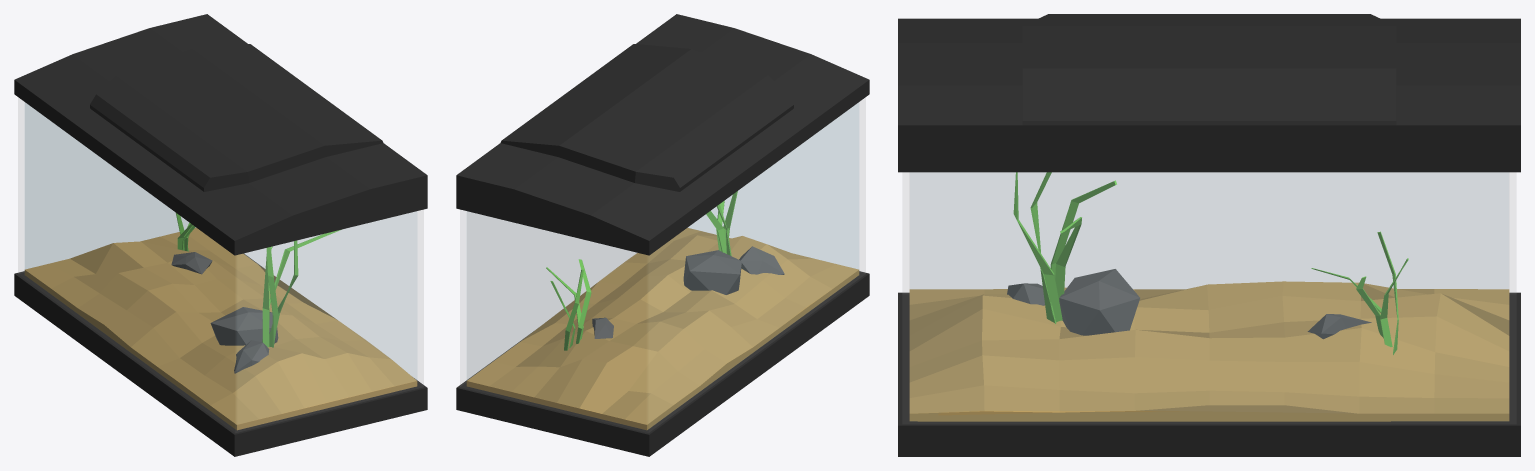
Rendered from tank.glb.
3 views of the same model, side by side, from view 1: azimuth 30°, elevation 25°; view 2: azimuth 150°, elevation 25°; view 3: azimuth 270°, elevation 25° (orthographic). The views are drawn at different scales.
Parts seen in each view (by area): view 1: Fish_Tank_Cube.003; view 2: Fish_Tank_Cube.003; view 3: Fish_Tank_Cube.003.
Boxes of the visible parts, x1=… form: Fish_Tank_Cube.003: x1=14, y1=14, x2=427, y2=456; Fish_Tank_Cube.003: x1=456, y1=14, x2=869, y2=456; Fish_Tank_Cube.003: x1=898, y1=14, x2=1520, y2=456.
Bounding box in the file's own units: 1.29 × 1.57 × 2.55.
